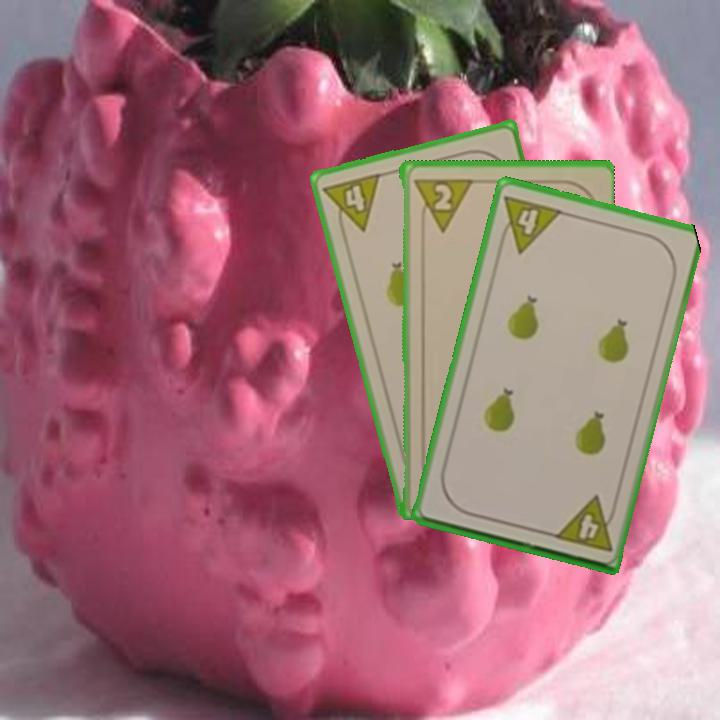2p: (409, 175, 472, 234)
4p: (494, 191, 565, 256), (320, 169, 384, 239), (550, 492, 620, 554)
